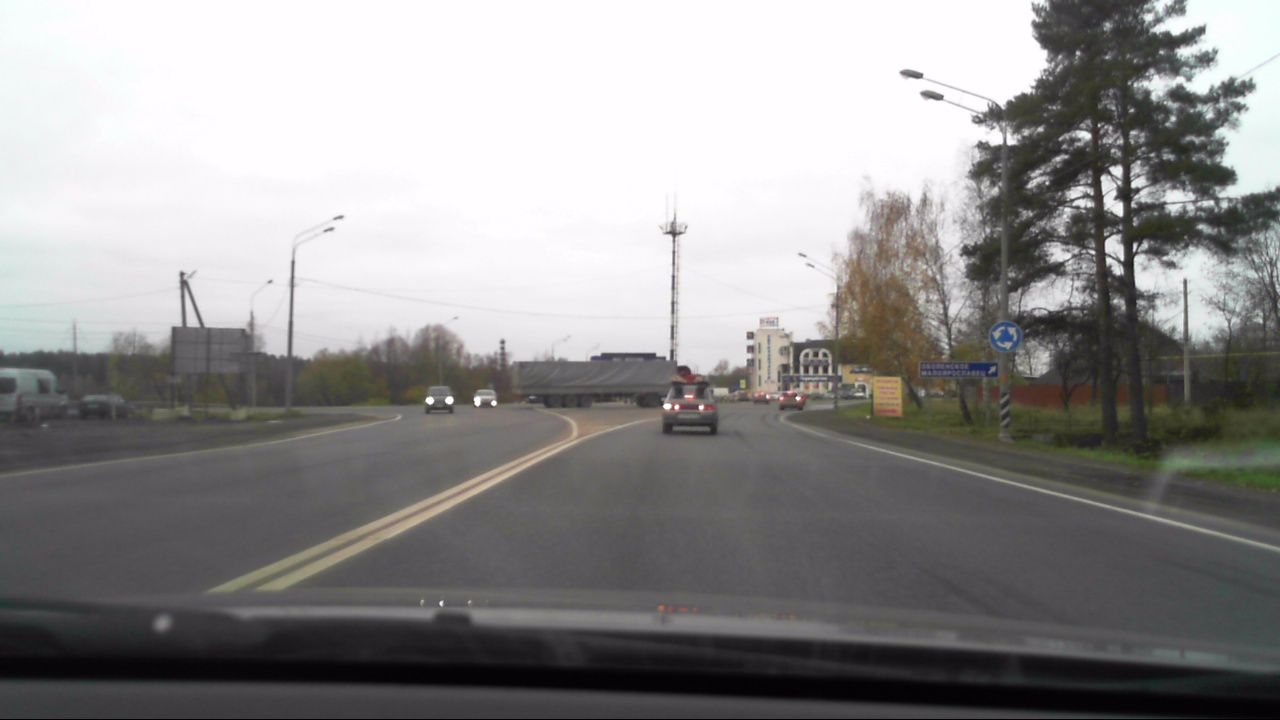Round-About: (987, 319, 1027, 354)
